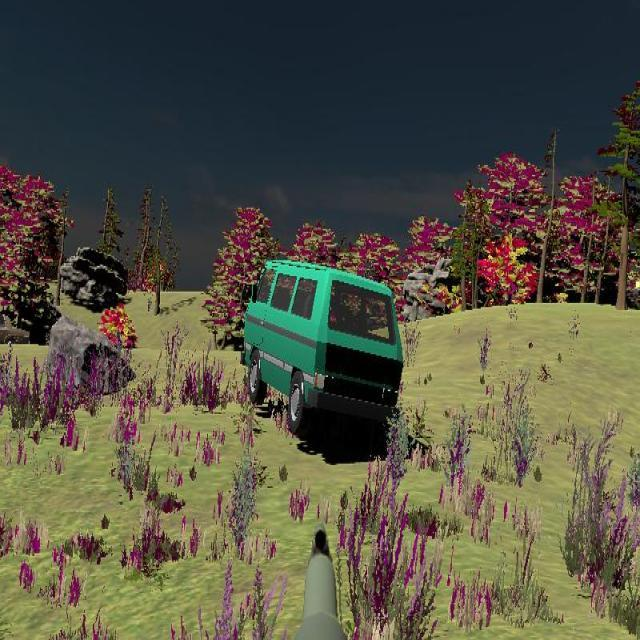car: (241, 260, 403, 439), (0, 311, 32, 347)
